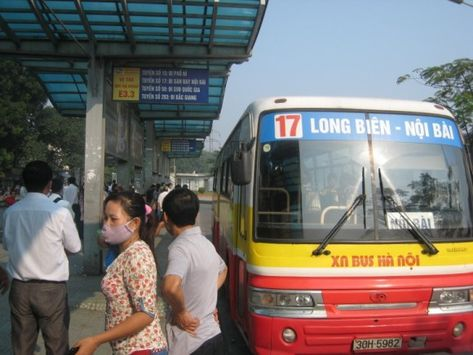number-plate: (353, 337, 403, 352)
